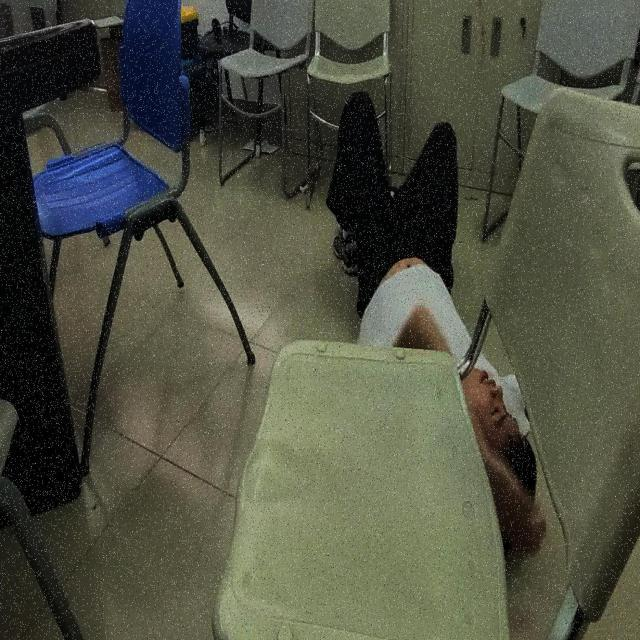fall: (328, 90, 546, 566)
